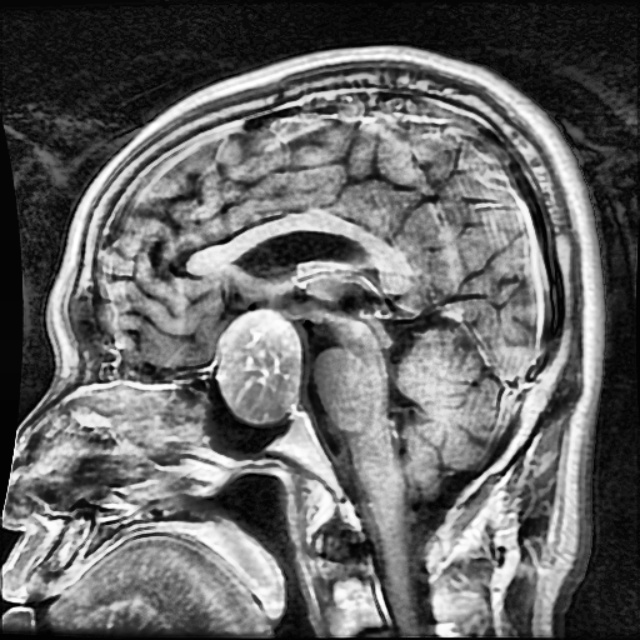Pituitary: (215, 307, 303, 422)
